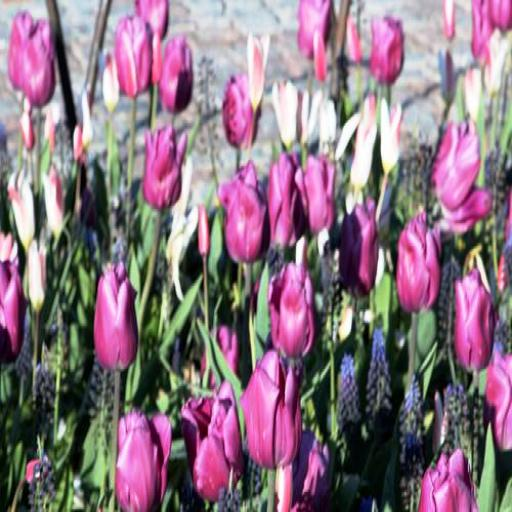tulip: (179, 380, 244, 498), (242, 354, 303, 469), (116, 410, 173, 512), (268, 260, 320, 364), (219, 163, 269, 268), (93, 263, 138, 372), (454, 266, 498, 371), (398, 211, 442, 312), (340, 195, 382, 297), (20, 20, 60, 112), (144, 122, 184, 212), (114, 16, 152, 98), (158, 34, 194, 117), (370, 10, 406, 88)
